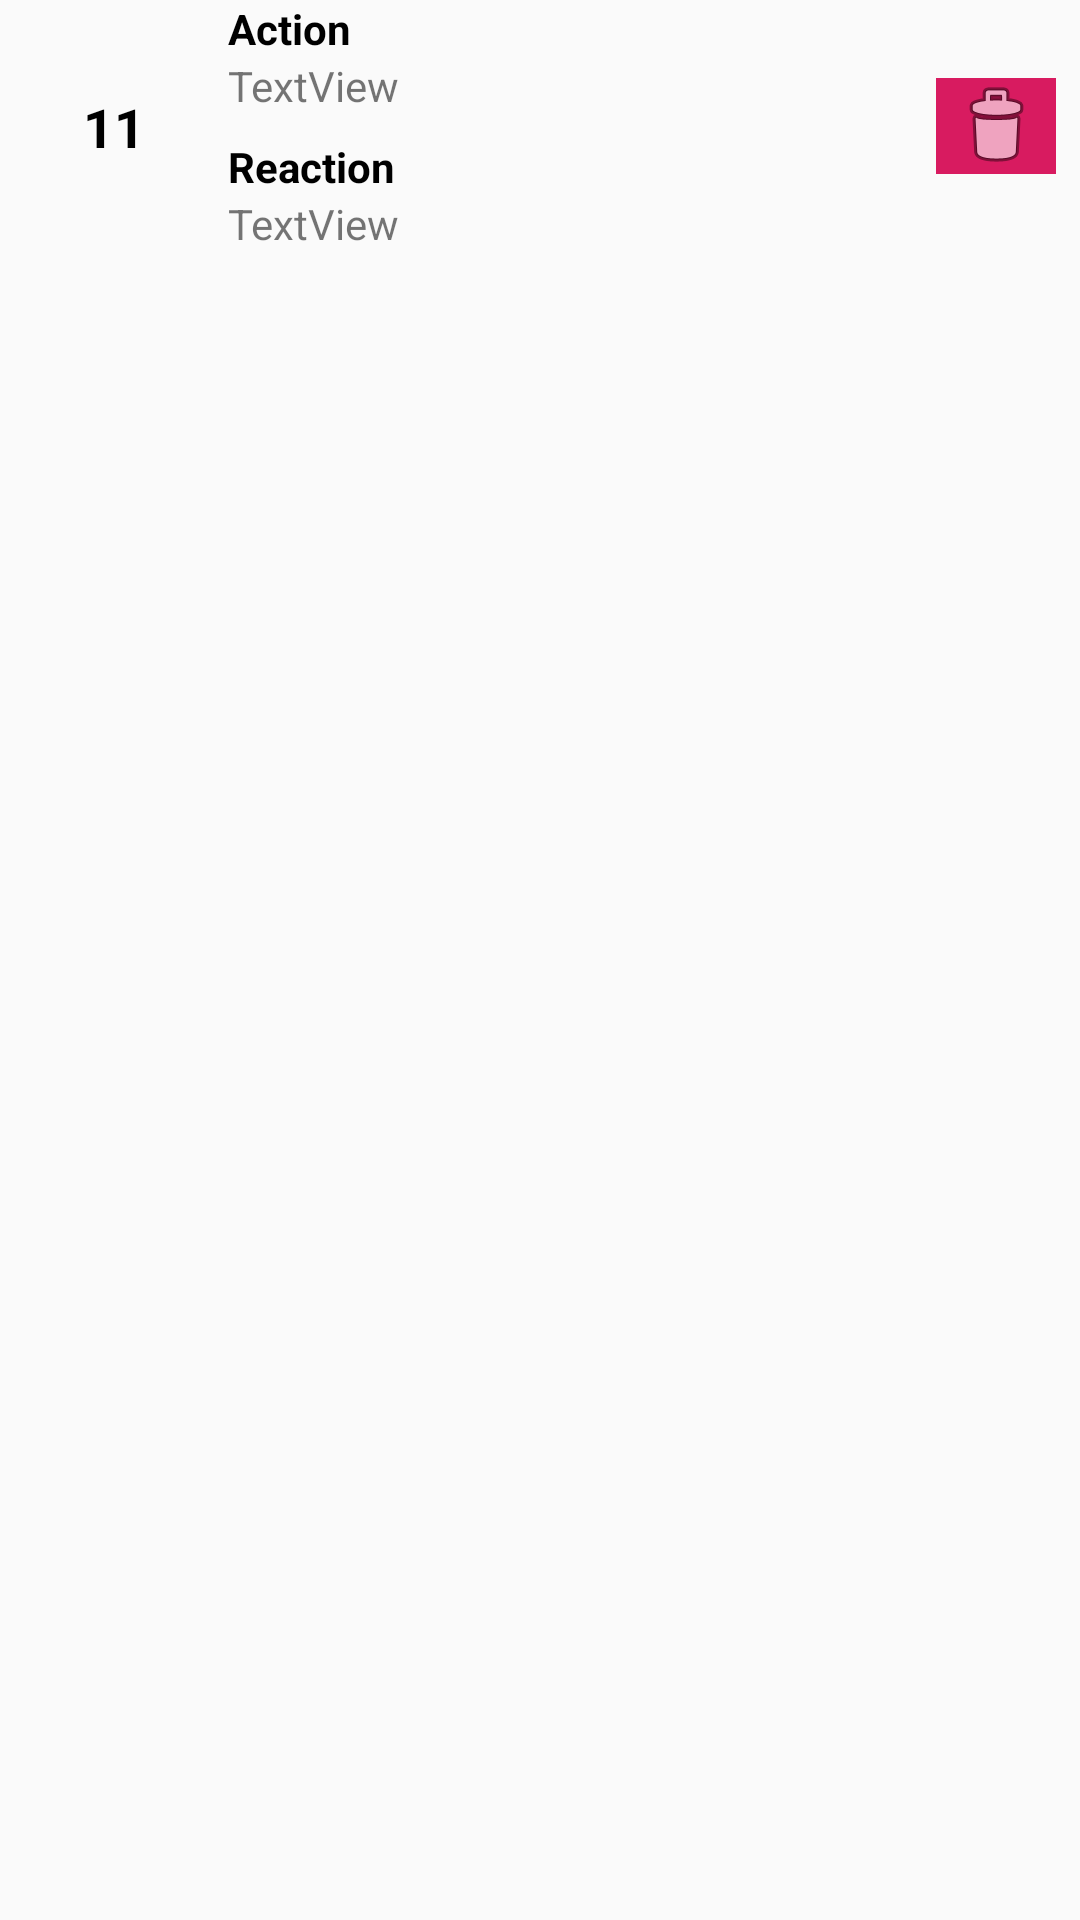

Screen size 1080*1920. Icon name, then its box in pixels as [left=x1, top=y1, right=x2, bottom=y2]:
delete: [left=936, top=78, right=1056, bottom=174]
